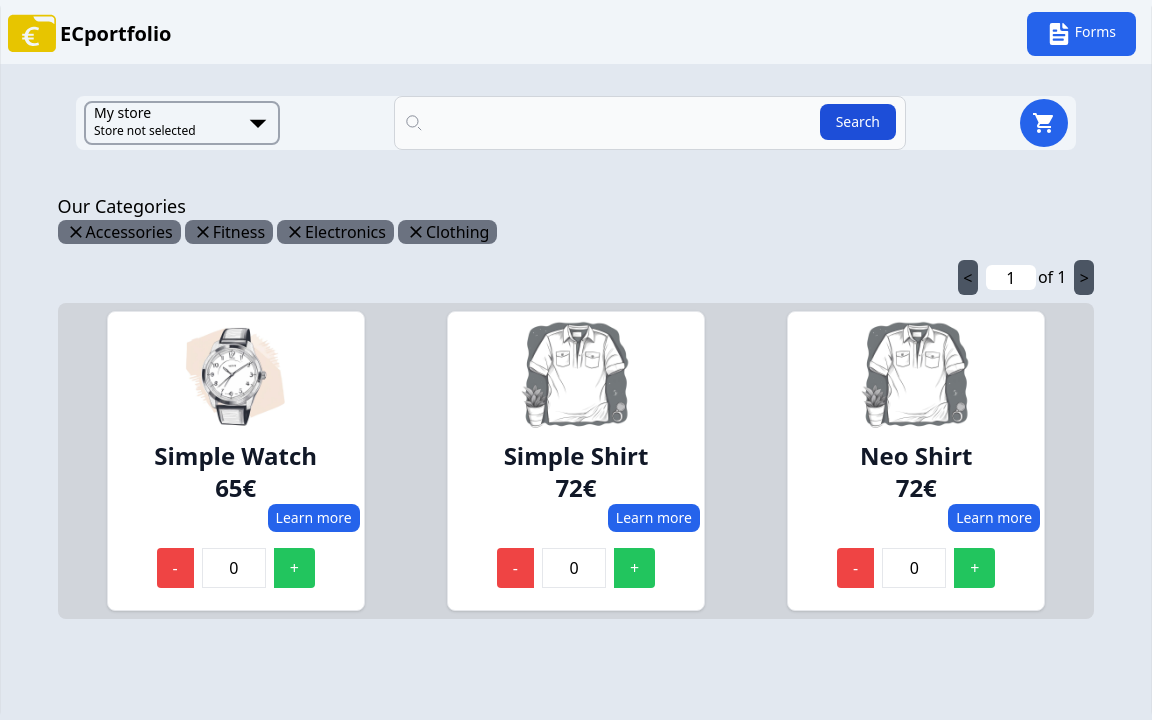
Test: Shop cart test › Add a product in products list and reduce the product in cart shop List
The image size is (1152, 720).
Click the button "+" below "65€".
click(295, 568)  # box x1=274 y1=548 x2=315 y2=588
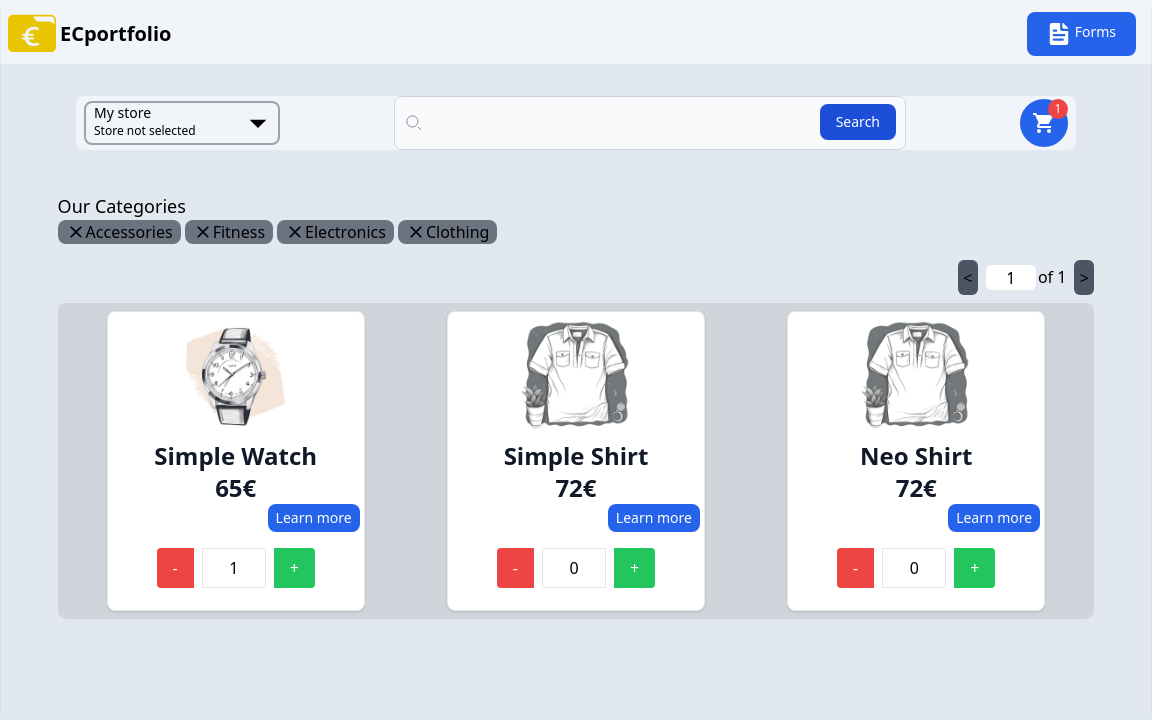
Click the button with id "shoppingCart".
click(1044, 123)  # box x1=1020 y1=99 x2=1068 y2=147
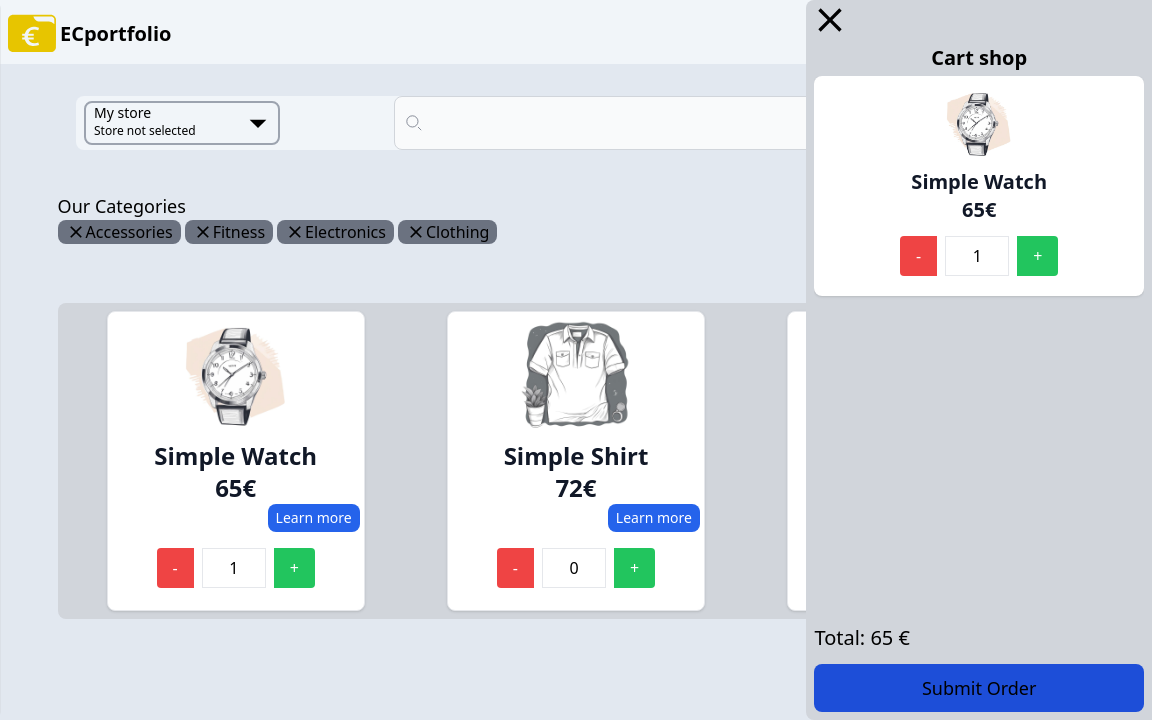
Result: the element with id "ShopCartItem1" is shown at x1=814 y1=76 x2=1144 y2=296
Click the 1st button "-".
click(919, 256)  # box x1=900 y1=236 x2=937 y2=276
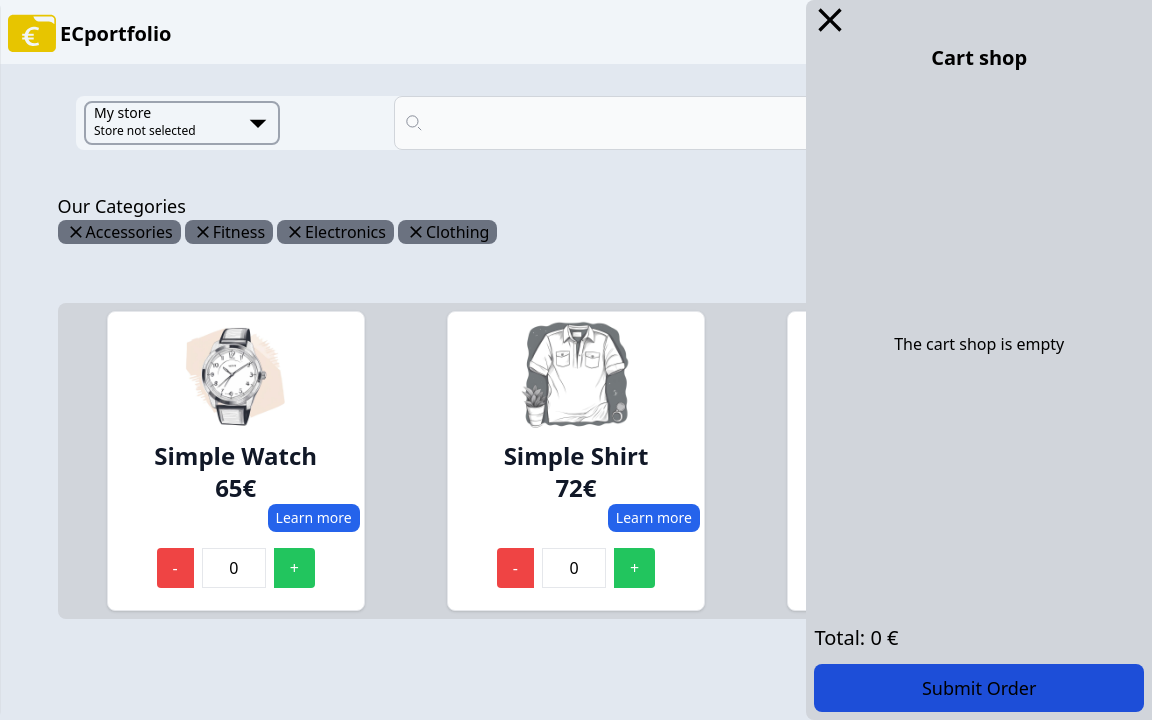
Result: the text "The cart shop is empty" is shown at x1=894 y1=333 x2=1064 y2=355
